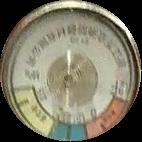green: (49, 121, 87, 142)
red: (85, 97, 129, 140)
yellow: (9, 90, 56, 139)
